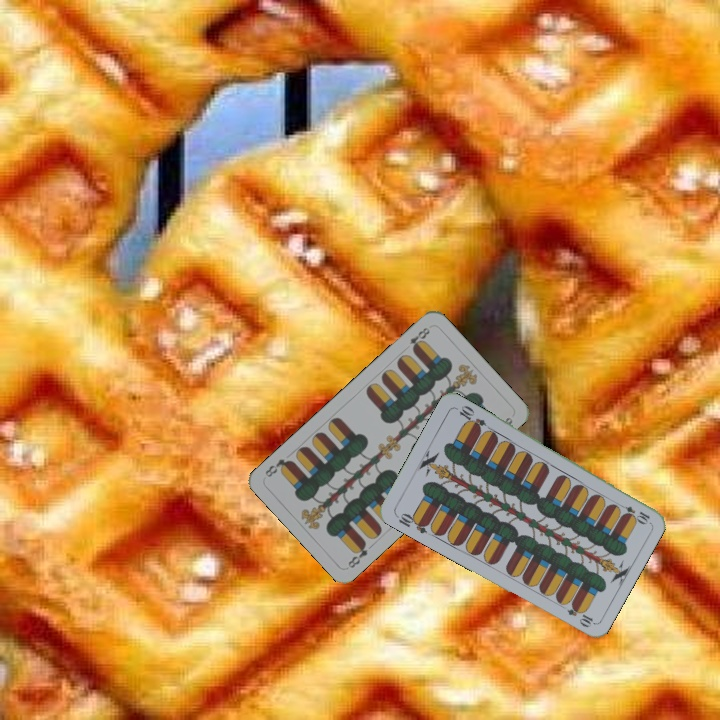E10: (613, 499, 652, 526), (392, 509, 431, 536)
E8: (405, 322, 433, 354), (344, 537, 370, 571)
